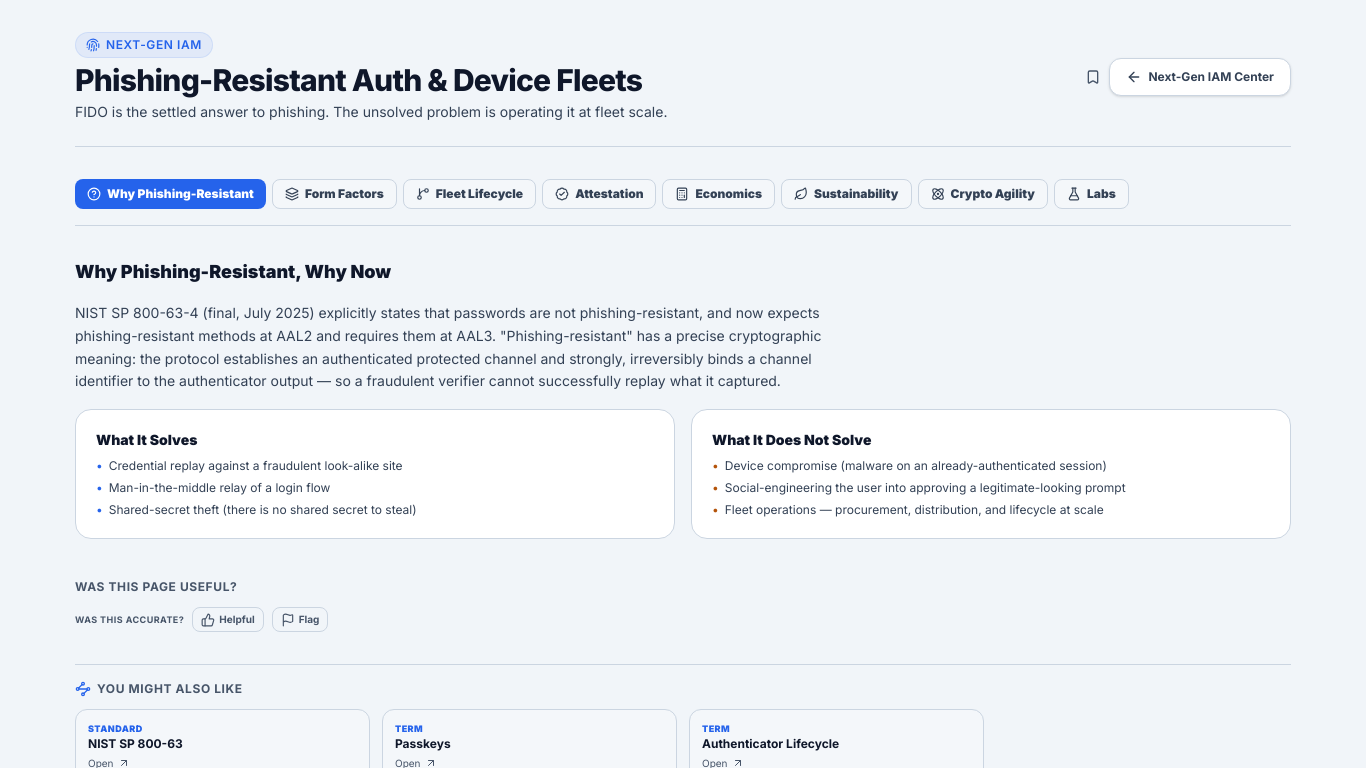
Test: PhishingResistantAuthCenter page › expands a fleet-lifecycle stage to show its KPIs
This screenshot has width=1366, height=768.
Click the button "Fleet Lifecycle".
click(469, 194)  # box [403, 179, 536, 209]
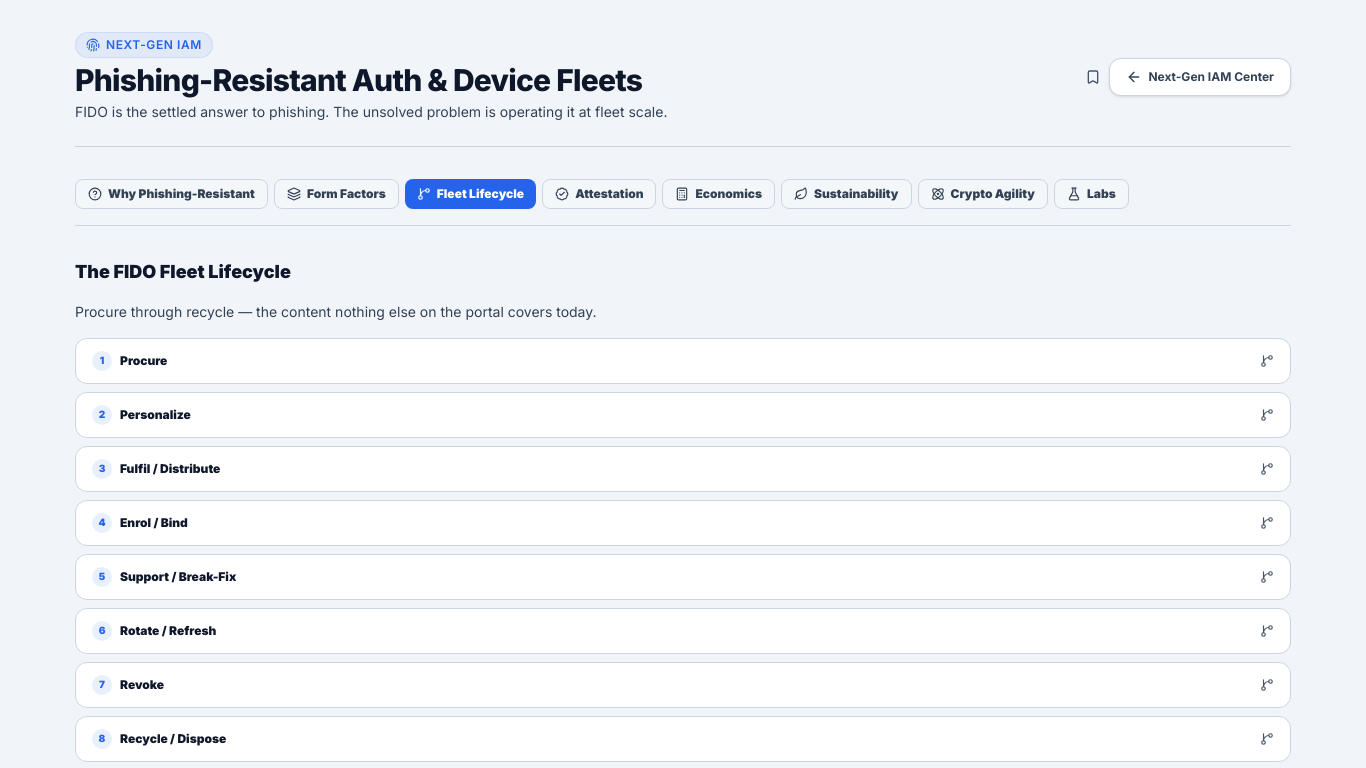
Click the heading "1 Procure".
click(144, 360)  # box [92, 351, 1274, 371]
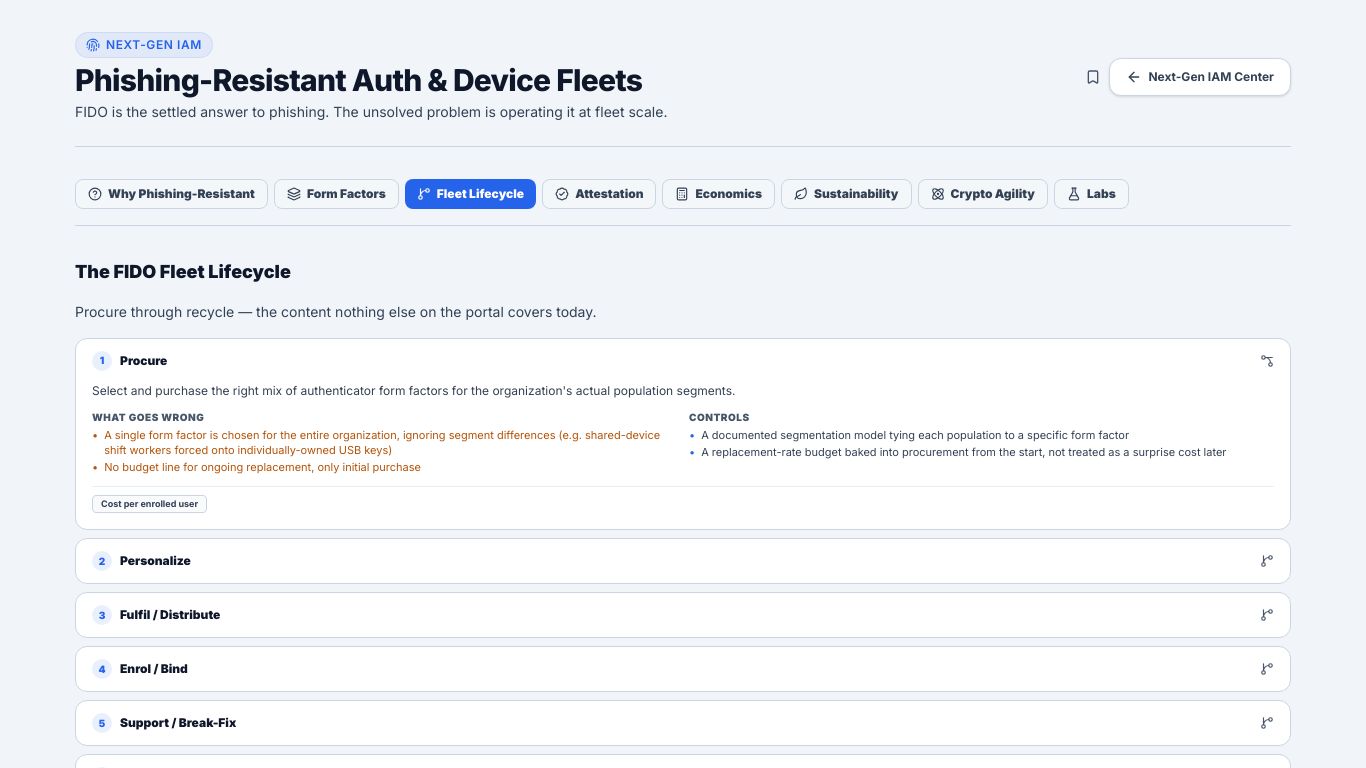
Result: the text "Cost per enrolled user" is shown at [92, 495, 207, 513]
